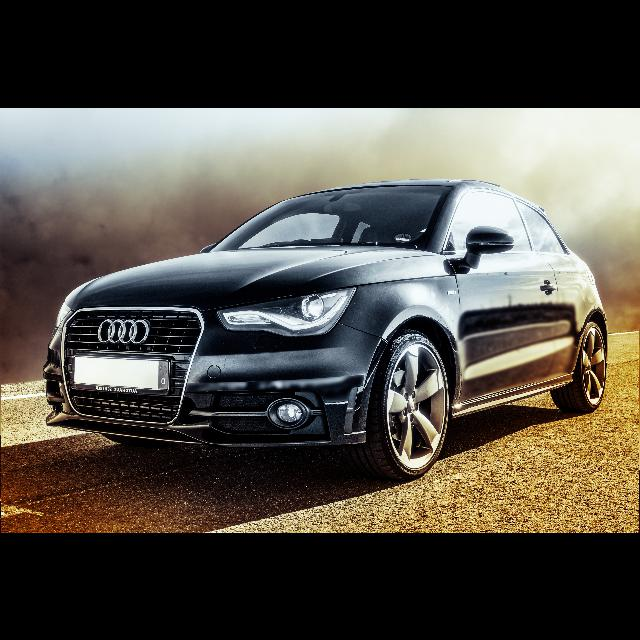cars: (34, 171, 616, 494)
